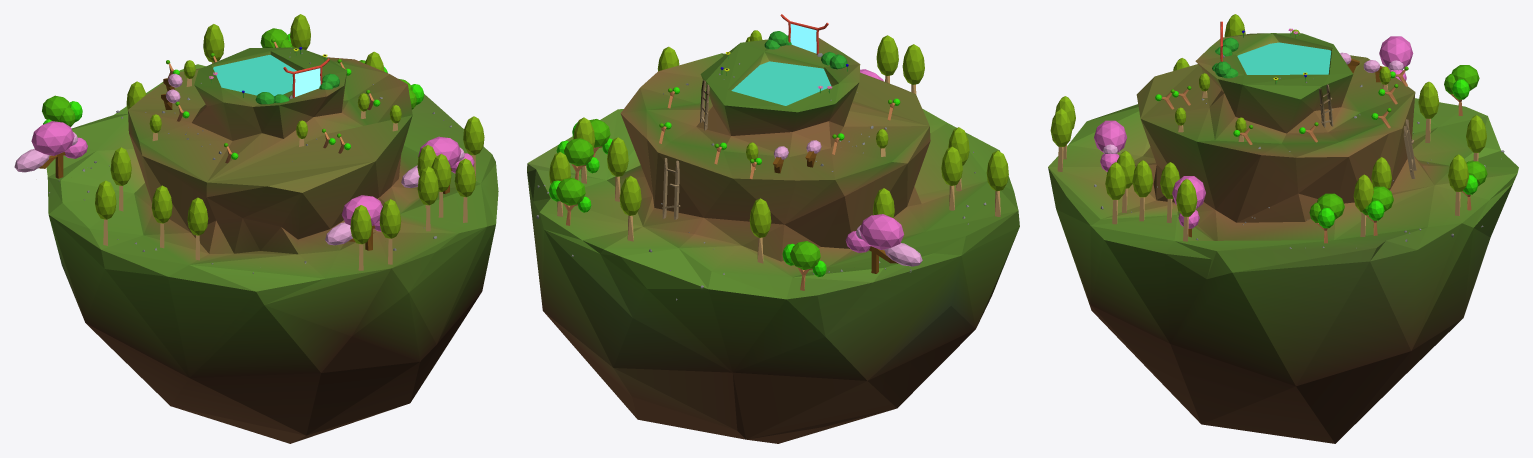
3 views of the same model, side by side, from view 1: azimuth 30°, elevation 25°; view 2: azimuth 150°, elevation 25°; view 3: azimuth 270°, elevation 25° (orthographic). The views are drawn at different scales.
Parts seen in each view (by area): view 1: Island.015, Water.015, Tree3 - 2.055, Tree3 - 2.053, Tree3 - 2.054, Tree1 - 2.072, Tree2 - 2.139, Tree2 - 2.145, Tree2 - 2.142, Tree2 - 2.144, Tree2 - 2.137, Tree2 - 2.132 (+8 smaller); view 2: Island.015, Water.015, Tree3 - 2.055, Tree1 - 2.072, Tree1 - 2.071, Tree1 - 2.070, Tree2 - 2.142, Tree2 - 2.135, Tree2 - 2.143, Tree2 - 2.136, Tree2 - 2.134, Tree2 - 2.145 (+8 smaller); view 3: Island.015, Water.015, Tree3 - 2.053, Tree3 - 2.055, Tree1 - 2.072, Tree1 - 2.069, Tree2 - 2.139, Tree2 - 2.140, Tree2 - 2.137, Tree1 - 2.070, Tree2 - 2.133, Tree2 - 2.143 (+8 smaller).
Boxes of the visible parts, x1,y1,x2,y2 form: Island.015: (46, 47, 498, 443); Water.015: (213, 55, 296, 96); Tree3 - 2.055: (14, 121, 87, 178); Tree3 - 2.053: (325, 195, 382, 250); Tree3 - 2.054: (401, 136, 474, 193); Tree1 - 2.072: (42, 95, 82, 126); Tree2 - 2.139: (379, 199, 401, 264); Tree2 - 2.145: (350, 205, 371, 270); Tree2 - 2.142: (95, 180, 116, 245); Tree2 - 2.144: (417, 166, 438, 231); Tree2 - 2.137: (454, 158, 475, 222); Tree2 - 2.132: (110, 147, 131, 211); Island.015: (527, 38, 1019, 443); Water.015: (731, 61, 831, 105); Tree3 - 2.055: (845, 214, 922, 273); Tree1 - 2.072: (782, 241, 826, 290); Tree1 - 2.071: (549, 177, 591, 225); Tree1 - 2.070: (556, 138, 599, 180); Tree2 - 2.142: (986, 150, 1008, 216); Tree2 - 2.135: (619, 175, 641, 241); Tree2 - 2.143: (749, 198, 771, 263); Tree2 - 2.136: (941, 146, 962, 210); Tree2 - 2.134: (607, 137, 628, 201); Tree2 - 2.145: (902, 44, 924, 94); Island.015: (1048, 33, 1518, 443); Water.015: (1237, 42, 1331, 74); Tree3 - 2.053: (1094, 120, 1127, 171); Tree3 - 2.055: (1379, 36, 1413, 81); Tree1 - 2.072: (1444, 65, 1479, 115); Tree1 - 2.069: (1309, 193, 1344, 243); Tree2 - 2.139: (1050, 108, 1072, 171); Tree2 - 2.140: (1176, 179, 1197, 241); Tree2 - 2.137: (1105, 162, 1126, 224); Tree1 - 2.070: (1362, 186, 1393, 235); Tree2 - 2.133: (1448, 154, 1468, 215); Tree2 - 2.143: (1418, 81, 1439, 142).
Size of the model in its own units: 41.96 by 39.87 by 43.73.
